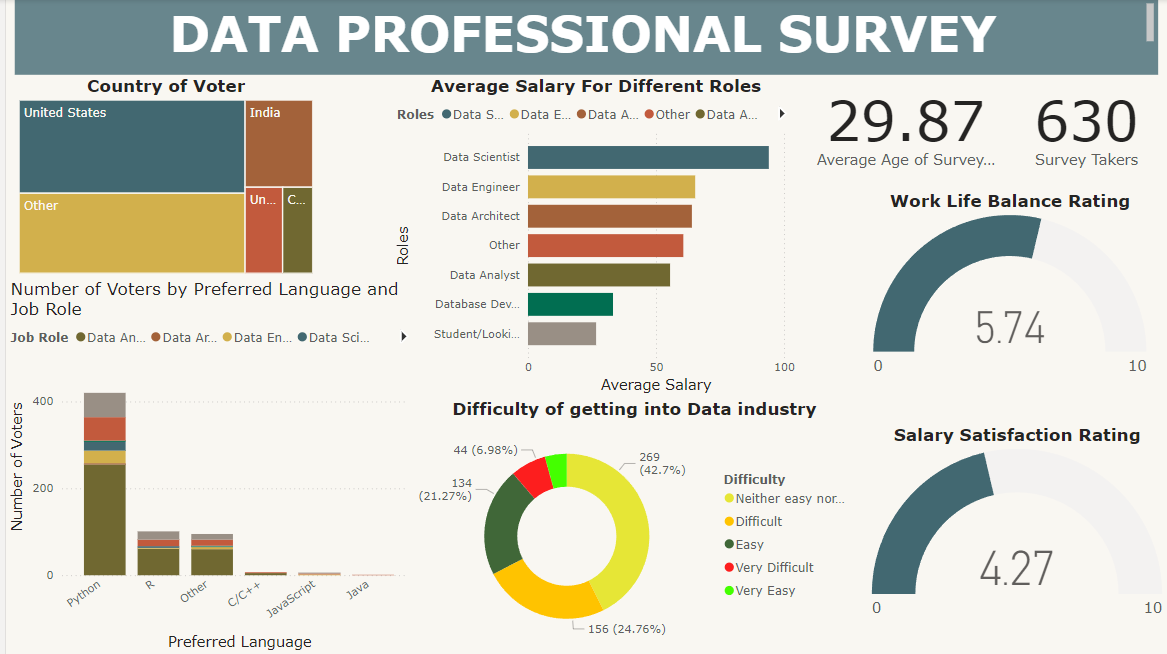

This screenshot's page, from the dashboard's own definition file:
{"tool":"powerbi","page":{"name":"Page 1","canvas":[1280,720],"ordinal":0},"visuals":[{"type":"textbox","box":[9.4,0,1255.2,83.1],"z":0},{"type":"card","fields":{"Values":["Count(Data Professional Survey.Unique ID)"]},"box":[1092.3,83.1,188.1,111.3],"z":1000},{"type":"card","fields":{"Values":["Avg(Data Professional Survey.Q10 - Current Age)"]},"box":[883.8,83.1,208.4,111.3],"z":2000},{"type":"barChart","title":"Average Salary For Different Roles","fields":{"Category":["Data Professional Survey.Q1 - Which Title Best Fits your Current Role?.1"],"Y":["Avg(Data Professional Survey.Average Salary)"],"Series":["Data Professional Survey.Q1 - Which Title Best Fits your Current Role?.1"]},"box":[424.7,83.1,446.6,371.4],"z":3000},{"type":"columnChart","fields":{"Category":["Data Professional Survey.Q5 - Favorite Programming Language.1"],"Y":["Count(Data Professional Survey.Unique ID)"],"Series":["Data Professional Survey.Q1 - Which Title Best Fits your Current Role?.1"]},"box":[0,305.6,456,413.7],"z":4000},{"type":"treemap","title":"Country of Voter","fields":{"Values":["CountNonNull(Data Professional Survey.Q11 - Which Country do you live in?.1)"],"Group":["Data Professional Survey.Q11 - Which Country do you live in?.1"]},"box":[9.4,83.1,332.2,222.5],"z":5000},{"type":"gauge","title":"Work Life Balance Rating","fields":{"Y":["Avg(Data Professional Survey.Q6 - How Happy are you in your Current Position with the following? (Work/Life Balance))"],"MinValue":["Min(Data Professional Survey.Q6 - How Happy are you in your Current Position with the following? (Work/Life Balance))"],"MaxValue":["Max(Data Professional Survey.Q6 - How Happy are you in your Current Position with the following? (Work/Life Balance))1"]},"box":[940.3,210,324.4,211.6],"z":6000},{"type":"gauge","title":"Salary Satisfaction Rating","fields":{"Y":["Avg(Data Professional Survey.Q6 - How Happy are you in your Current Position with the following? (Salary))"],"MinValue":["Min(Data Professional Survey.Q6 - How Happy are you in your Current Position with the following? (Salary))"],"MaxValue":["Max(Data Professional Survey.Q6 - How Happy are you in your Current Position with the following? (Salary))"]},"box":[940.3,467,340.1,221],"z":7000},{"type":"donutChart","title":"Difficulty of getting into Data industry","fields":{"Category":["Data Professional Survey.Q7 - How difficult was it for you to break into Data?"],"Y":["CountNonNull(Data Professional Survey.Q7 - How difficult was it for you to break into Data?)"]},"box":[438.8,437.2,501.5,282.1],"z":8000}]}

Visuals, with their boxes in screenshot pixels (x1, y1, x2, y2), scaled from the page's 1280x720 canvas onto the 1167x654 screenshot:
textbox: [left=9, top=0, right=1153, bottom=75]
card - Count(Data Professional Survey.Unique ID): [left=996, top=75, right=1166, bottom=177]
card - Avg(Data Professional Survey.Q10 - Current Age): [left=806, top=75, right=996, bottom=177]
"Average Salary For Different Roles" barChart: [left=387, top=75, right=794, bottom=413]
columnChart - Data Professional Survey.Q5 - Favorite Programming Language.1 x Count(Data Professional Survey.Unique ID): [left=0, top=278, right=416, bottom=653]
"Country of Voter" treemap: [left=9, top=75, right=311, bottom=278]
"Work Life Balance Rating" gauge: [left=857, top=191, right=1153, bottom=383]
"Salary Satisfaction Rating" gauge: [left=857, top=424, right=1166, bottom=625]
"Difficulty of getting into Data industry" donutChart: [left=400, top=397, right=857, bottom=653]
